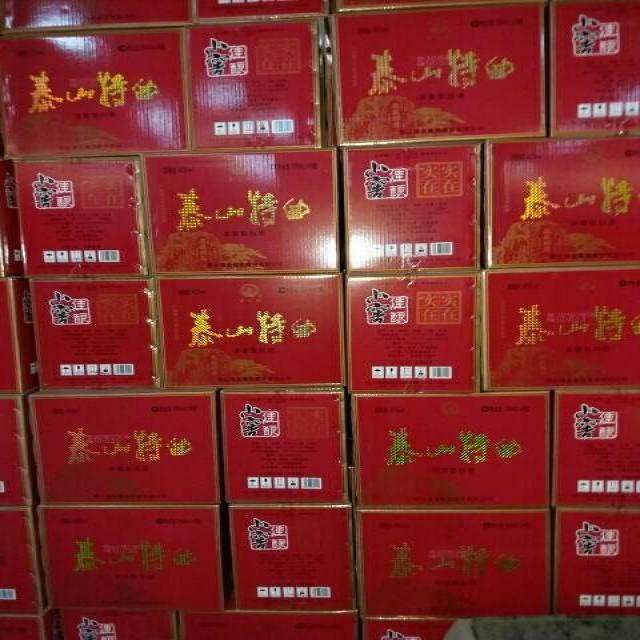box: (325, 3, 549, 147), (135, 150, 341, 280), (346, 391, 551, 511), (0, 28, 187, 159), (22, 387, 223, 506), (154, 274, 346, 389), (352, 511, 557, 616), (481, 134, 639, 268), (36, 506, 228, 613), (480, 264, 639, 392), (334, 143, 481, 277), (186, 21, 325, 148), (10, 157, 154, 277), (339, 271, 482, 391), (28, 277, 163, 391), (218, 390, 349, 506), (220, 505, 356, 611), (544, 2, 639, 137), (549, 389, 639, 508), (553, 507, 639, 617), (1, 1, 192, 35), (358, 616, 639, 638), (0, 506, 46, 613), (173, 613, 361, 639), (0, 277, 40, 393), (0, 393, 36, 506), (191, 0, 329, 26), (57, 612, 176, 639), (327, 1, 512, 17), (1, 160, 25, 279)
